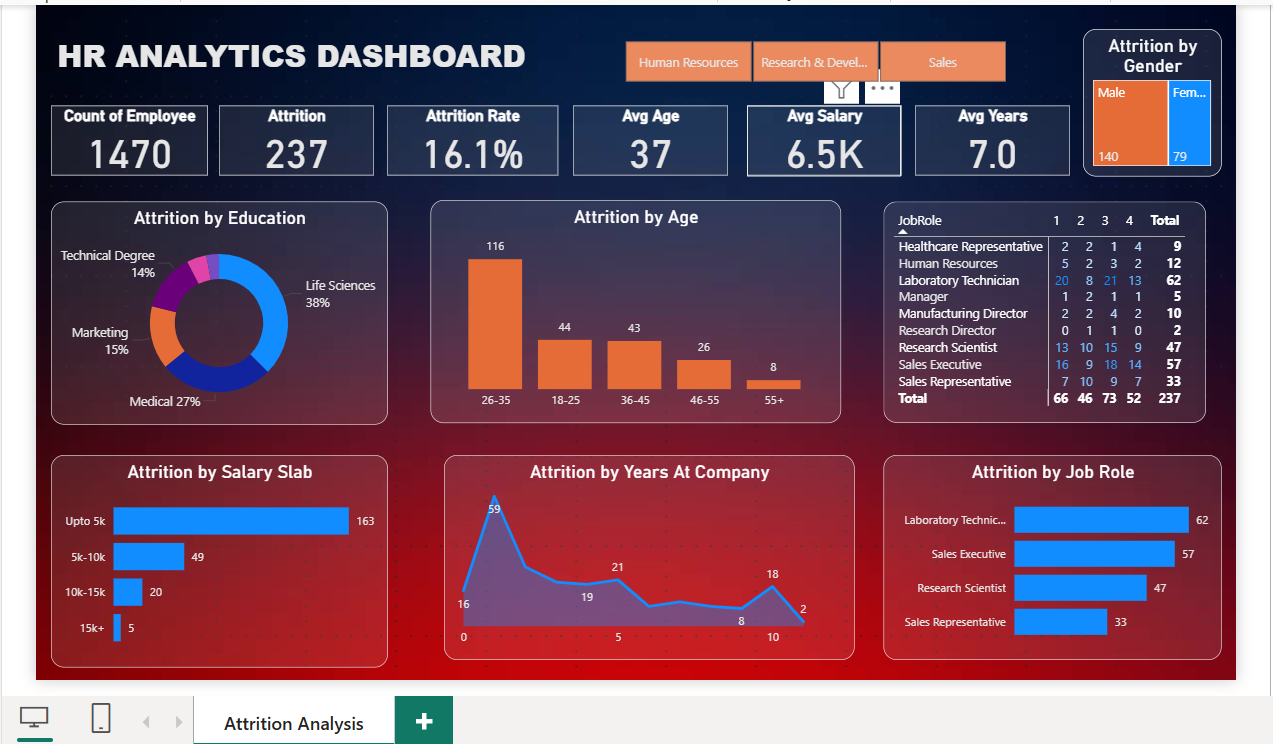

This screenshot's page, from the dashboard's own definition file:
{"tool":"powerbi","page":{"name":"Attrition Analysis","canvas":[1280,720],"ordinal":0},"visuals":[{"type":"card","title":"Count of Employee","fields":{"Values":["CountNonNull(HR_Analytics.EmpID)"]},"box":[15.4,107.5,167,74.9],"z":0},{"type":"card","title":"Attrition","fields":{"Values":["Sum(HR_Analytics.AttritionCount)"]},"box":[195.8,107.5,165.1,74.9],"z":1000},{"type":"card","title":"Attrition Rate","fields":{"Values":["HR_Analytics.AttritionRate"]},"box":[374.4,107.5,182.4,74.9],"z":2000},{"type":"card","title":"Avg Age","fields":{"Values":["Avg(HR_Analytics.Age)"]},"box":[572.2,107.5,165.1,74.9],"z":3000},{"type":"card","title":"Avg Years","fields":{"Values":["Avg(HR_Analytics.YearsAtCompany)"]},"box":[937,107.5,165.1,74.9],"z":4000},{"type":"card","title":"Avg Salary","fields":{"Values":["Avg(HR_Analytics.MonthlyIncome)"]},"box":[758.4,107.5,165.1,74.9],"z":5000},{"type":"donutChart","title":"Attrition by Education","fields":{"Category":["HR_Analytics.EducationField"],"Y":["Sum(HR_Analytics.AttritionCount)"]},"box":[15.4,209.3,359,238.1],"z":6000},{"type":"columnChart","title":"Attrition by Age","fields":{"Category":["HR_Analytics.AgeGroup"],"Y":["Sum(HR_Analytics.AttritionCount)"]},"box":[420.5,207.4,437.8,238.1],"z":7000},{"type":"pivotTable","fields":{"Rows":["HR_Analytics.JobRole"],"Columns":["HR_Analytics.JobSatisfaction"],"Values":["Sum(HR_Analytics.AttritionCount)"]},"box":[904.3,209.3,343.7,236.2],"z":8000},{"type":"barChart","title":"Attrition by Salary Slab","fields":{"Category":["HR_Analytics.SalarySlab"],"Y":["Sum(HR_Analytics.AttritionCount)"]},"box":[15.4,480,359,226.6],"z":9000},{"type":"barChart","title":"Attrition by Job Role","fields":{"Category":["HR_Analytics.JobRole"],"Y":["Sum(HR_Analytics.AttritionCount)"]},"box":[904.3,480,361,218.9],"z":10000},{"type":"areaChart","title":"Attrition by Years At Company","fields":{"Category":["HR_Analytics.YearsAtCompany"],"Y":["Sum(HR_Analytics.AttritionCount)"]},"box":[435.8,480,437.8,218.9],"z":11000},{"type":"treemap","title":"Attrition by Gender","fields":{"Group":["HR_Analytics.Gender"],"Values":["Sum(HR_Analytics.AttritionCount)"]},"box":[1117.4,25,147.8,157.4],"z":12000},{"type":"slicer","fields":{"Values":["HR_Analytics.Department"]},"box":[602.9,17.3,455,71],"z":13000},{"type":"textbox","box":[17.3,25,539.5,63.4],"z":14000}]}

Visuals, with their boxes on the page's 1280x720 design canvas (x1, y1, x2, y2). These are canvas units, not pixel positions in the 1273x744 screenshot, which may show the page scaled, cropped or inside an application window:
"Count of Employee" card: x1=15, y1=108, x2=182, y2=182
"Attrition" card: x1=196, y1=108, x2=361, y2=182
"Attrition Rate" card: x1=374, y1=108, x2=557, y2=182
"Avg Age" card: x1=572, y1=108, x2=737, y2=182
"Avg Years" card: x1=937, y1=108, x2=1102, y2=182
"Avg Salary" card: x1=758, y1=108, x2=924, y2=182
"Attrition by Education" donutChart: x1=15, y1=209, x2=374, y2=447
"Attrition by Age" columnChart: x1=420, y1=207, x2=858, y2=446
pivotTable - HR_Analytics.JobRole x HR_Analytics.JobSatisfaction: x1=904, y1=209, x2=1248, y2=446
"Attrition by Salary Slab" barChart: x1=15, y1=480, x2=374, y2=707
"Attrition by Job Role" barChart: x1=904, y1=480, x2=1265, y2=699
"Attrition by Years At Company" areaChart: x1=436, y1=480, x2=874, y2=699
"Attrition by Gender" treemap: x1=1117, y1=25, x2=1265, y2=182
slicer - HR_Analytics.Department: x1=603, y1=17, x2=1058, y2=88
textbox: x1=17, y1=25, x2=557, y2=88
